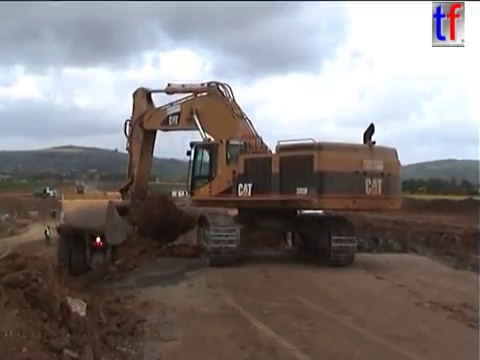excavator: (101, 78, 406, 268)
truck: (49, 192, 145, 277), (33, 186, 58, 199)
worker: (42, 223, 52, 245)
